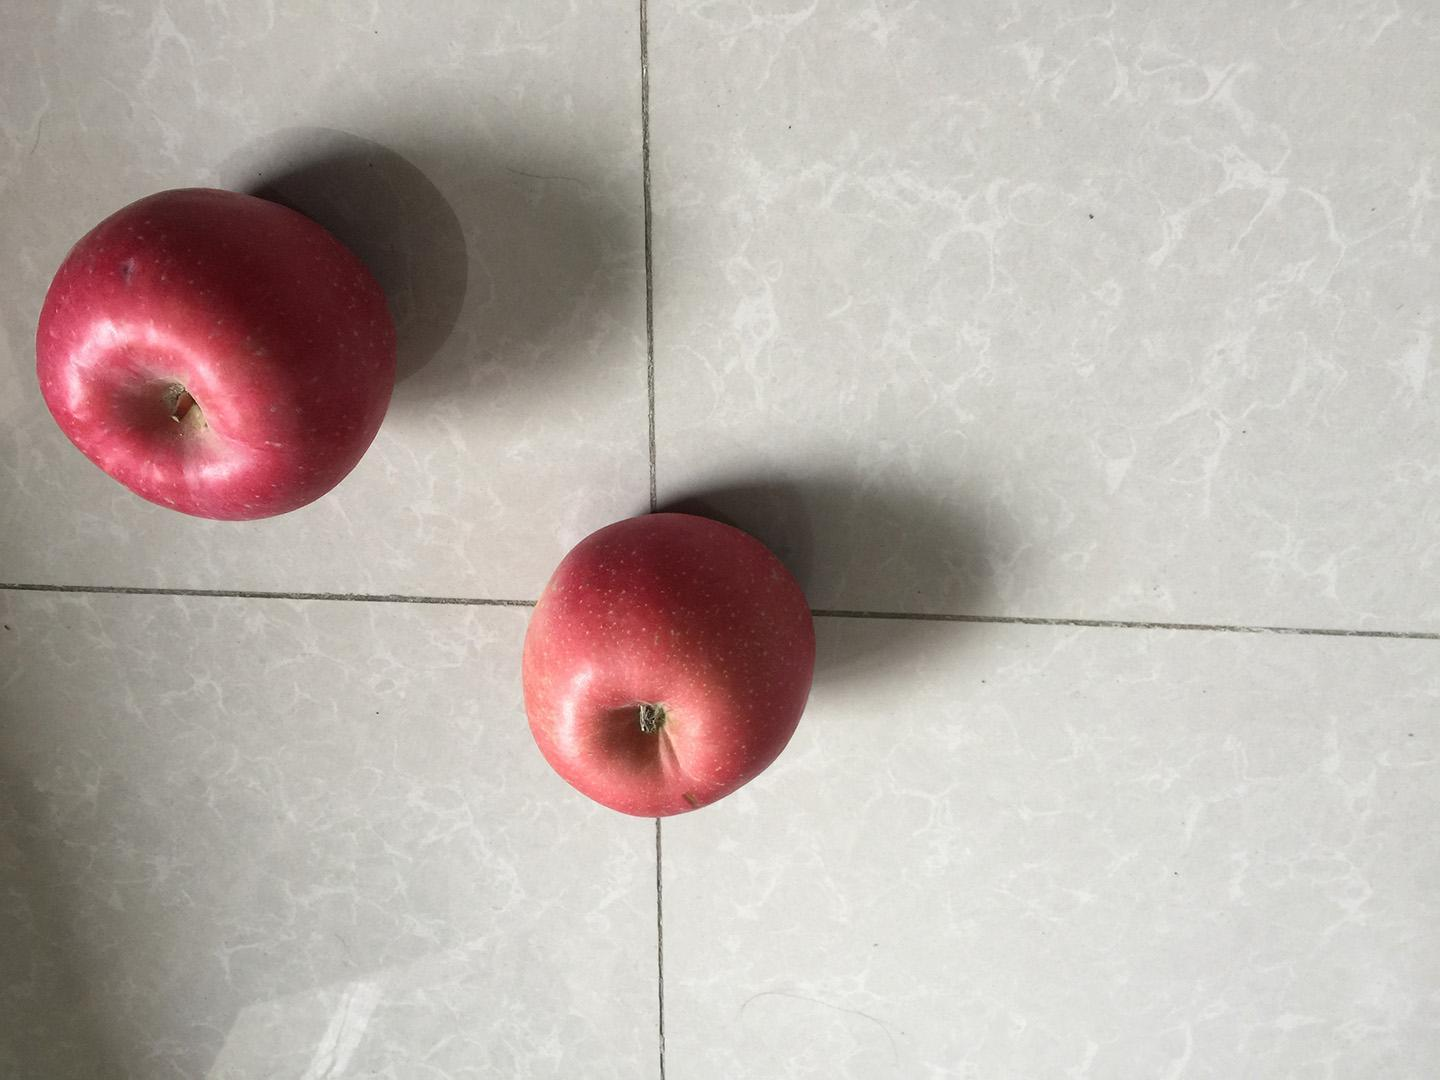apple: (29, 182, 406, 528), (515, 501, 823, 825)
